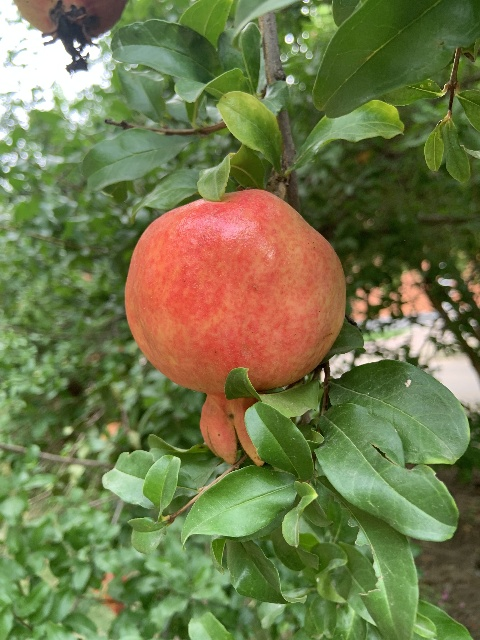ripe: (125, 190, 345, 467)
